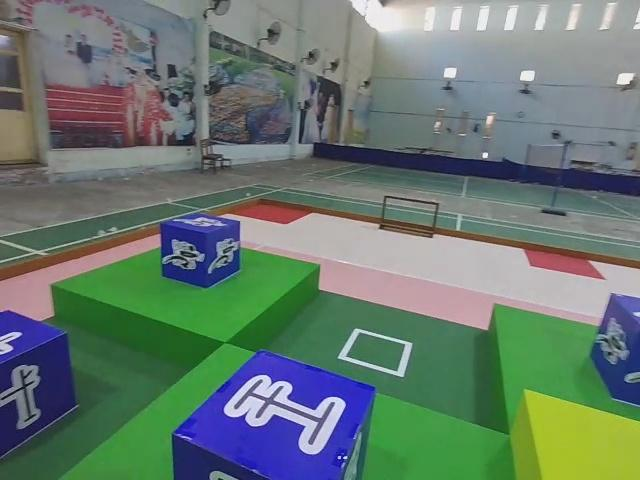R1 Blue: (160, 215, 244, 292), (591, 292, 640, 414)
R2 Fake Blue: (177, 351, 379, 480)
R2 Real Blue: (0, 309, 76, 467)
